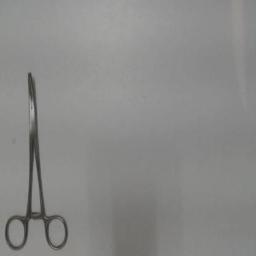Crile Artery Forceps: (3, 64, 73, 252)
